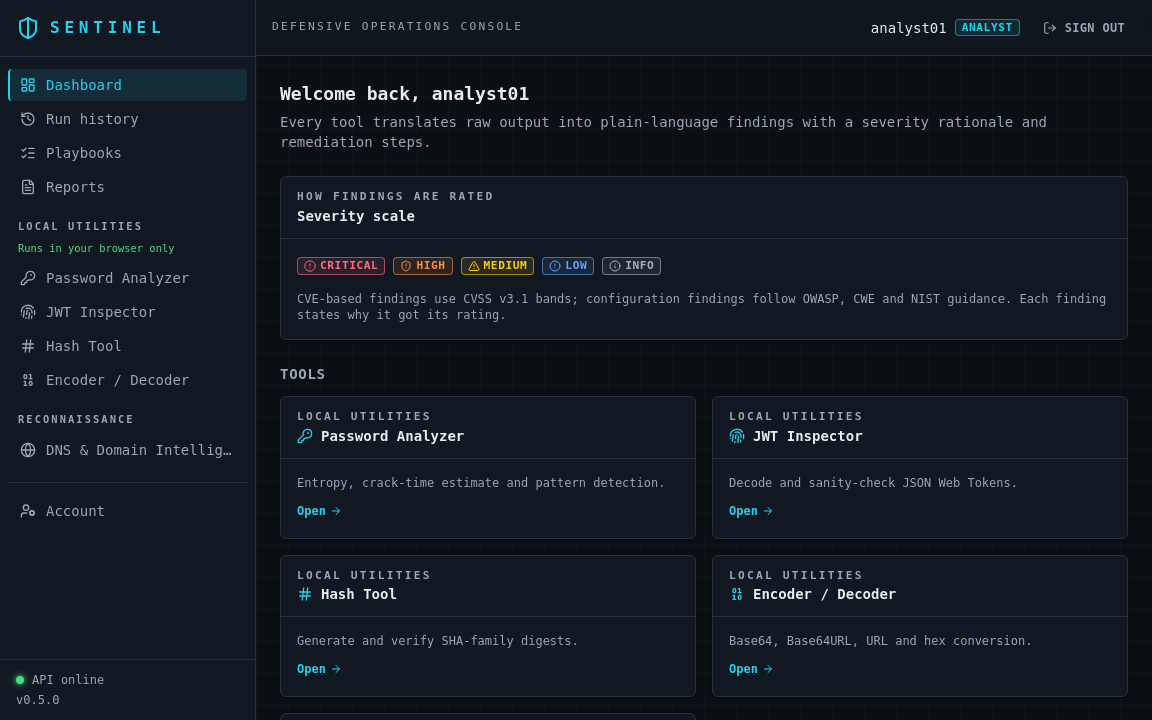
Test: run history › is reachable from the sidebar
Click the link "Run history". click: [79, 119]
box: [20,111,139,127]
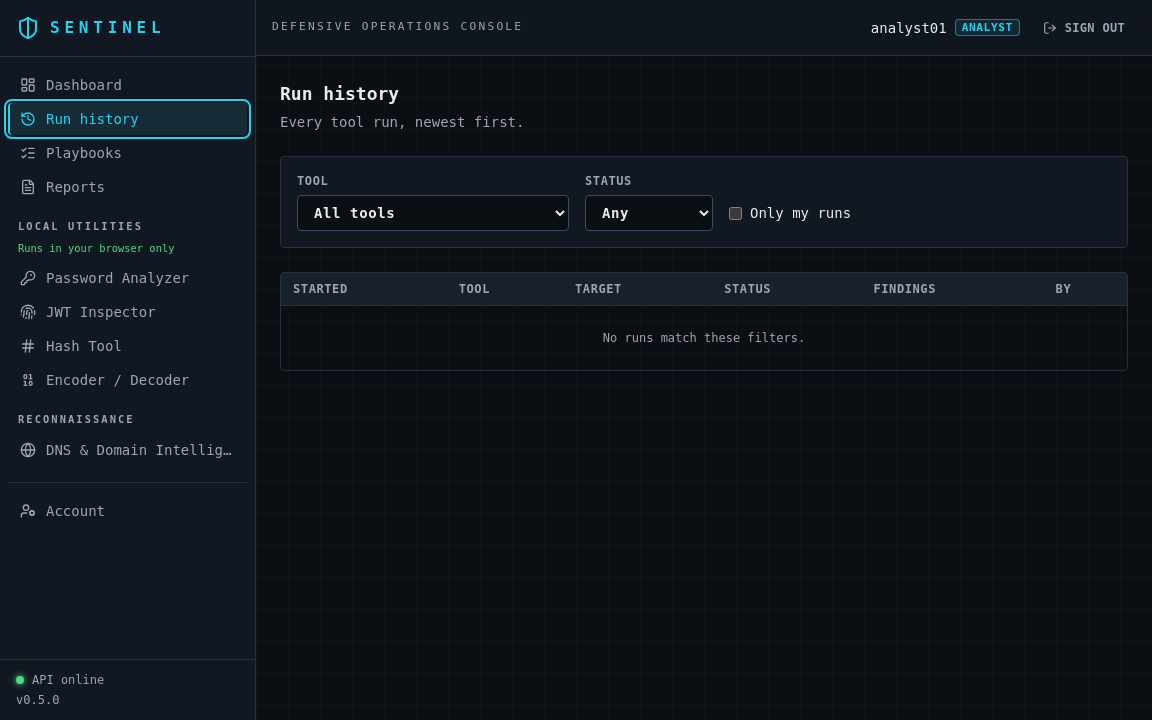
Result: the text "No runs match these filters." is shown at [281,306,1127,370]
